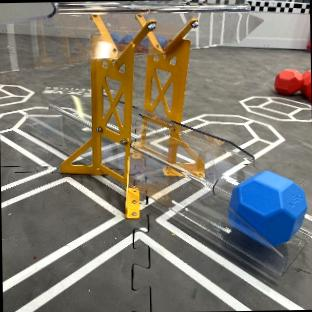Med_goal: (0, 0, 310, 267)
V5_BLUE: (228, 170, 307, 245), (156, 35, 166, 46)
V5_RED: (275, 68, 311, 99)
